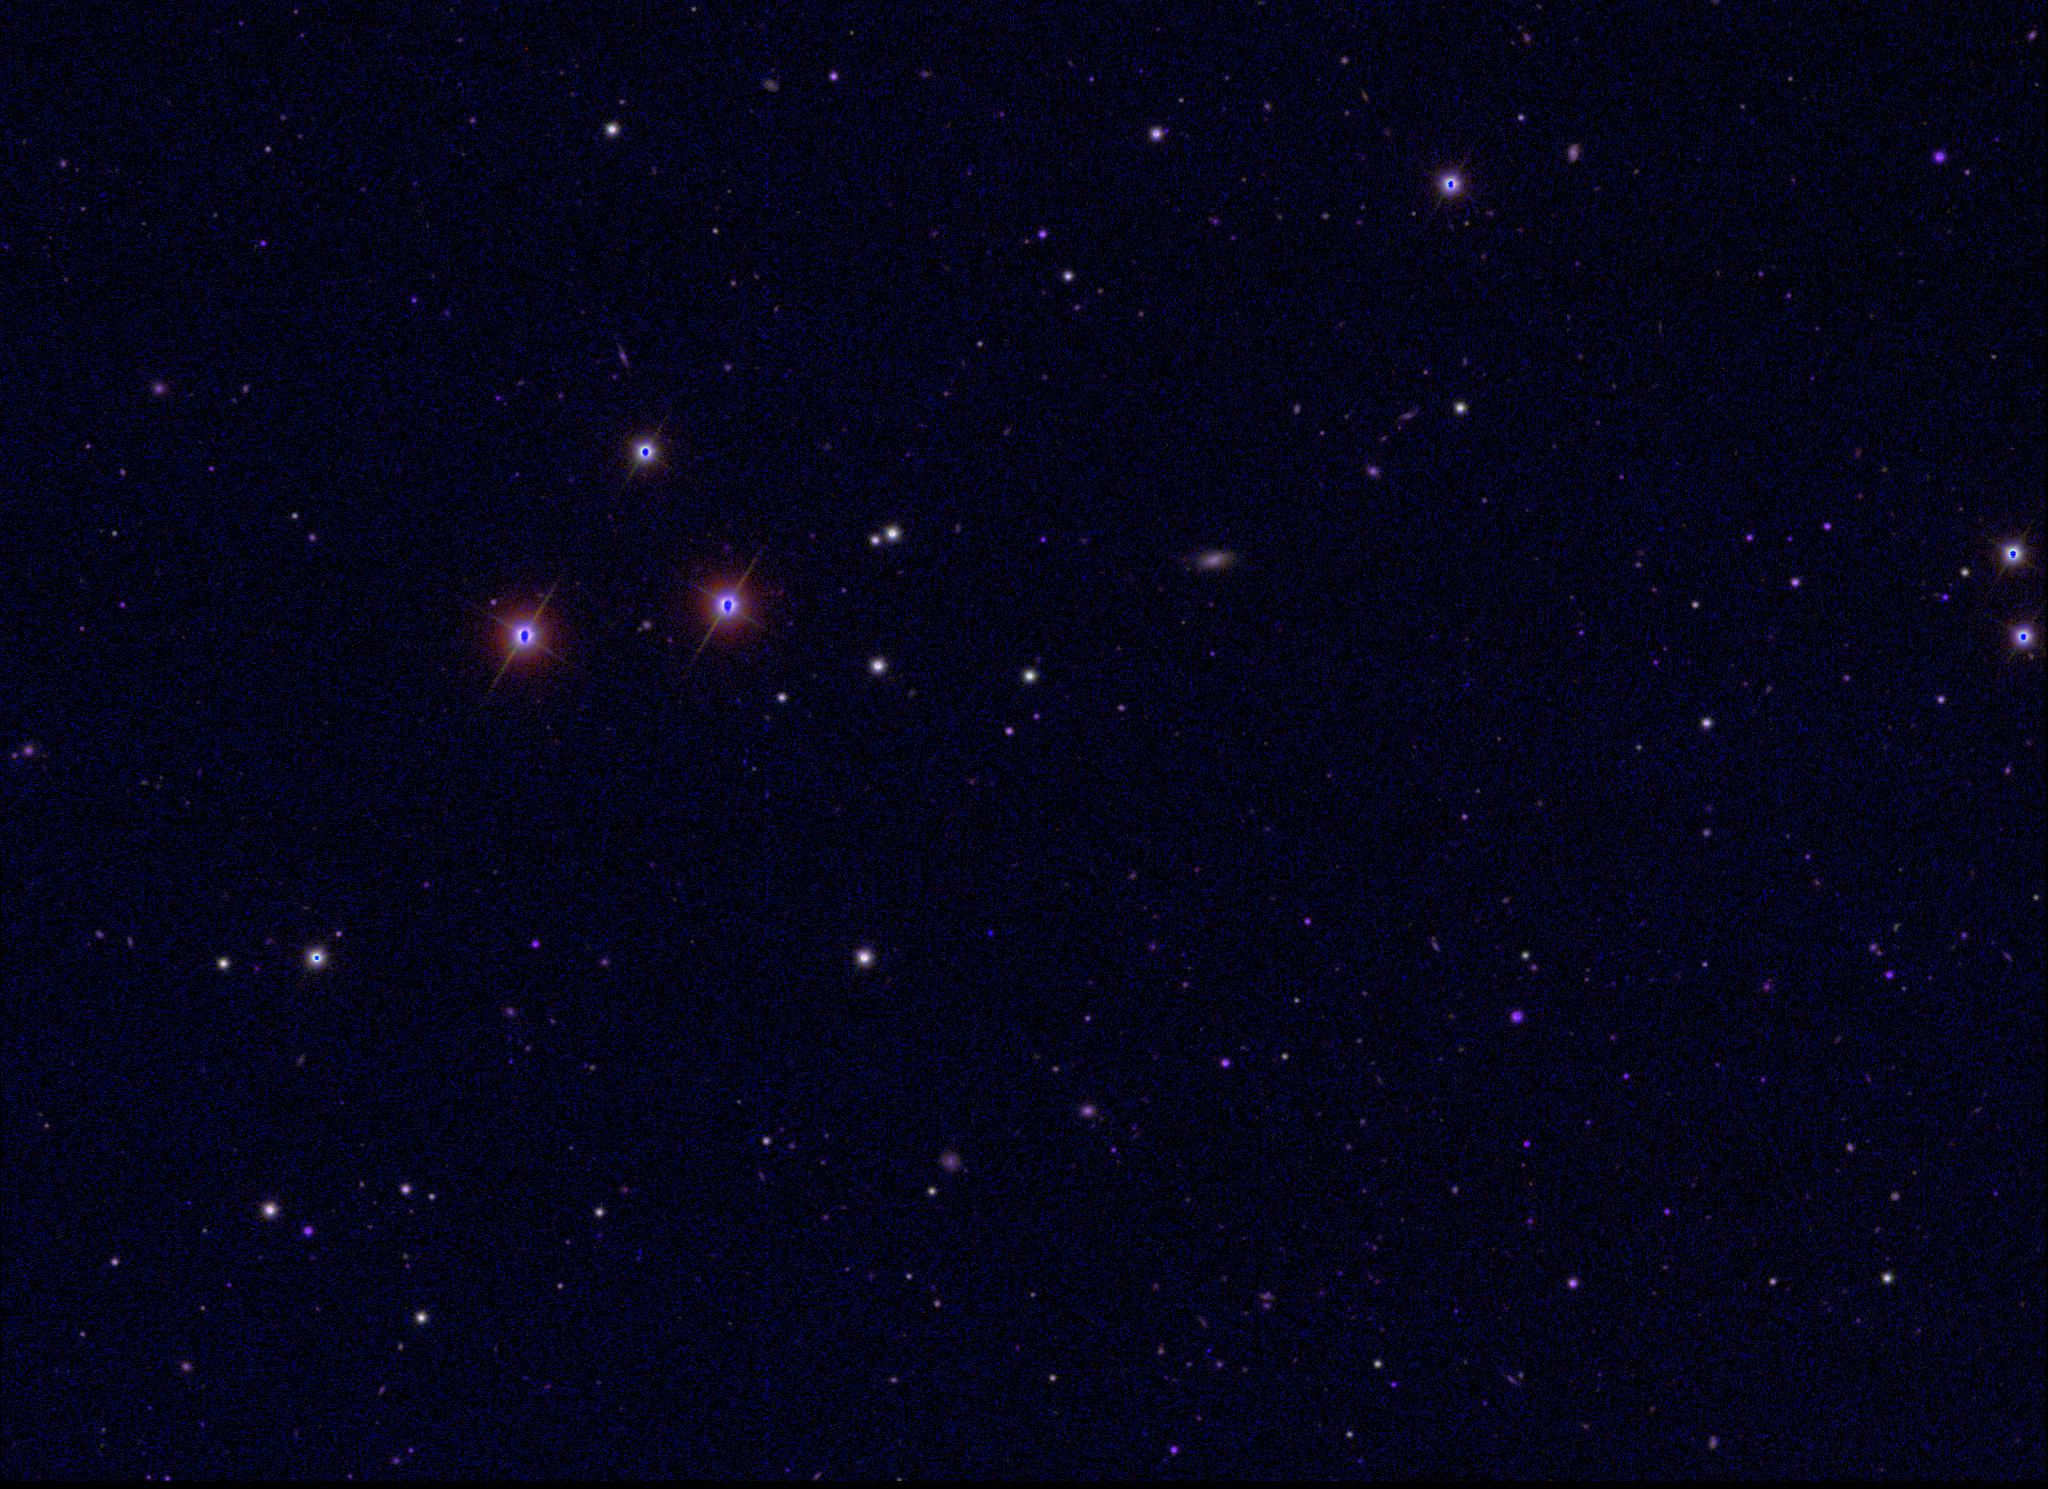L: (984, 926, 999, 940)
